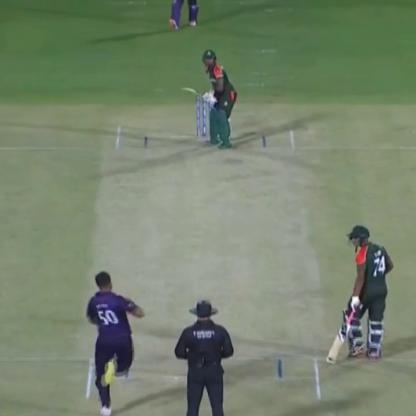bat: (326, 304, 354, 370), (178, 82, 220, 99)
pitch: (82, 123, 320, 406)
